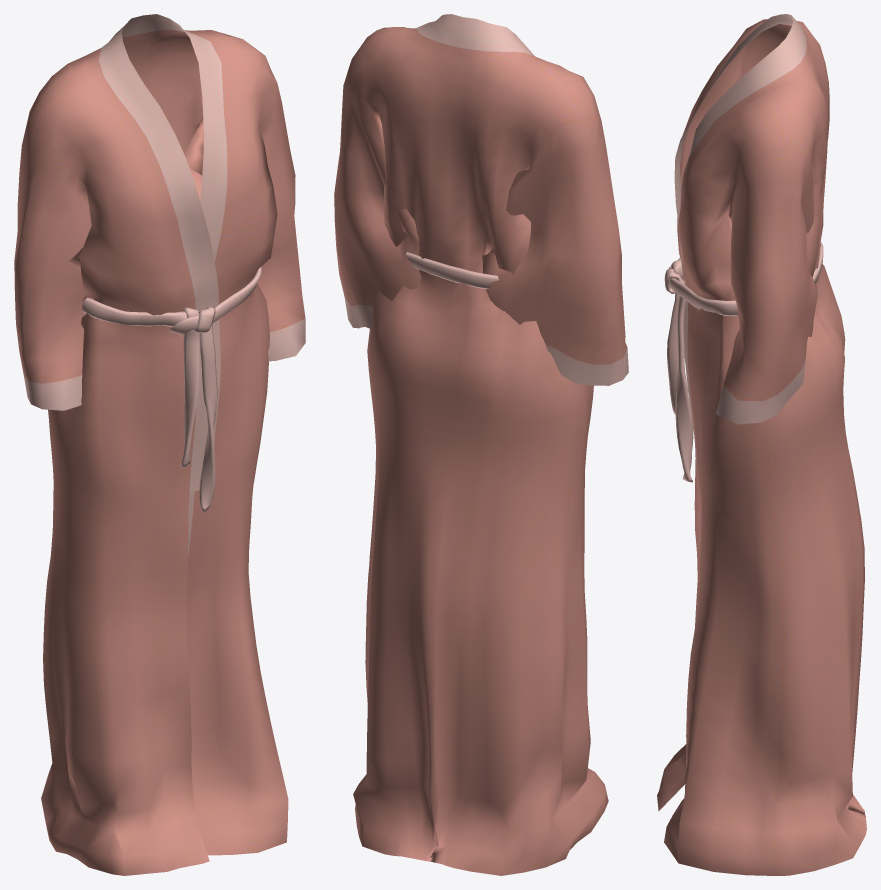
Rendered from dress_kimono.gltf.
3 renders of one model, left to right at view 1: azimuth 30°, elevation 25°; view 2: azimuth 150°, elevation 25°; view 3: azimuth 270°, elevation 25°, orthographic. The views are drawn at different scales.
Visible parts, largest first — view 1: dress_kimono; view 2: dress_kimono; view 3: dress_kimono.
Boxes of the visible parts, x1,y1,x2,y2 form: dress_kimono: (14,14,305,875); dress_kimono: (334,14,628,875); dress_kimono: (657,14,866,875).
Size of the model in its own units: 0.5088 by 1.42 by 0.3347.
1 material, 1 textured.
